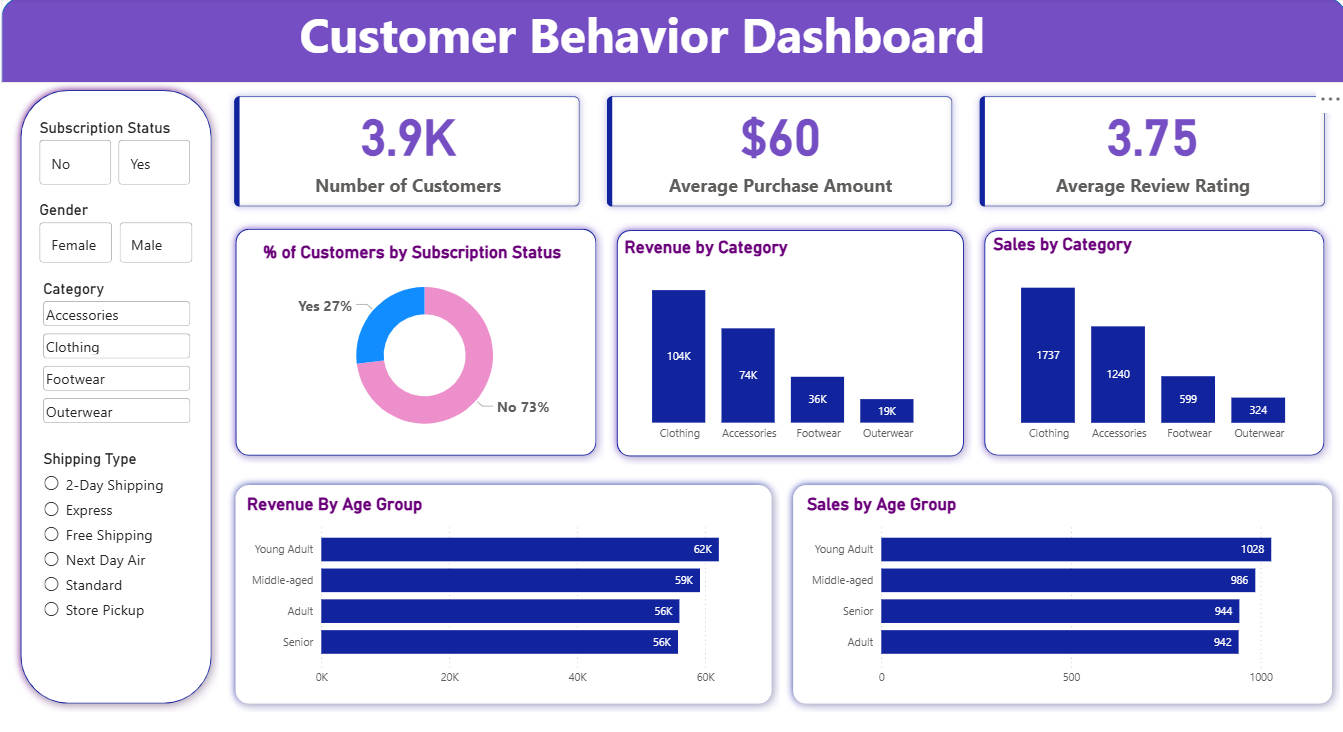

Layout of this report page (visuals, bound fields, positions):
{"tool":"powerbi","page":{"name":"Page 1","canvas":[1500,820],"ordinal":0},"visuals":[{"type":"cardVisual","fields":{"Data":["customer.Number of coustomers","customer.Average Purchase Amount","customer.Average Review Rating"]},"box":[244.6,95.4,1247.7,155.4],"z":0},{"type":"shape","box":[1.4,0,1498.6,95.7],"z":1000},{"type":"textbox","box":[328.6,0,875.7,82.9],"z":2000},{"type":"shape","box":[253.8,249.2,420,270.8],"z":3000},{"type":"donutChart","title":"% of Customers by Subscription Status","fields":{"Category":["customer.subscription_status"],"Y":["CountNonNull(customer.customer_id)"]},"box":[287.6,273.2,370,231.3],"z":4000},{"type":"shape","box":[677.9,250,404.7,270.3],"z":5000},{"type":"shape","box":[1087.7,250.8,396.9,269.2],"z":6000},{"type":"clusteredColumnChart","title":"Revenue by Category","fields":{"Category":["customer.category"],"Y":["Sum(customer.purchase_amount)"]},"box":[690.9,267.4,365.7,237],"z":7000},{"type":"clusteredColumnChart","title":"Sales by Category","fields":{"Category":["customer.category"],"Y":["customer.Number of coustomers"]},"box":[1101.5,264.6,369.2,240],"z":8000},{"type":"shape","box":[13.8,95.4,230.8,701.5],"z":9000},{"type":"advancedSlicerVisual","fields":{"Values":["customer.subscription_status"]},"box":[39,134.4,179.2,79.5],"z":10000},{"type":"advancedSlicerVisual","fields":{"Values":["customer.gender"]},"box":[39,226.9,180.7,75.2],"z":11000},{"type":"advancedSlicerVisual","fields":{"Values":["customer.category"]},"box":[43.4,315.1,174.9,205.2],"z":12000},{"type":"listSlicer","fields":{"Values":["customer.shipping_type"]},"box":[43.4,504.4,167.7,258.7],"z":13000},{"type":"shape","box":[253.8,535.4,615.4,261.5],"z":14000},{"type":"clusteredBarChart","title":"Revenue By Age Group","fields":{"Category":["customer.age_group"],"Y":["Sum(customer.purchase_amount)"]},"box":[270.8,553.8,575.4,221.5],"z":15000},{"type":"shape","box":[874.4,534.8,618.6,261.6],"z":16000},{"type":"clusteredBarChart","title":"Sales by Age Group","fields":{"Y":["customer.Number of coustomers"],"Category":["customer.age_group"]},"box":[893.8,553.8,576.9,221.5],"z":17000}]}

Visuals, with their boxes in screenshot pixels (x1, y1, x2, y2), scaled from the page's 1500x820 canvas onto the 1343x732 screenshot:
cardVisual - customer.Number of coustomers x customer.Average Purchase Amount: pyautogui.locateOnScreen(219, 85, 1336, 224)
shape: pyautogui.locateOnScreen(1, 0, 1342, 85)
textbox: pyautogui.locateOnScreen(294, 0, 1078, 74)
shape: pyautogui.locateOnScreen(227, 222, 603, 464)
"% of Customers by Subscription Status" donutChart: pyautogui.locateOnScreen(257, 244, 589, 450)
shape: pyautogui.locateOnScreen(607, 223, 969, 464)
shape: pyautogui.locateOnScreen(974, 224, 1329, 464)
"Revenue by Category" clusteredColumnChart: pyautogui.locateOnScreen(619, 239, 946, 450)
"Sales by Category" clusteredColumnChart: pyautogui.locateOnScreen(986, 236, 1317, 450)
shape: pyautogui.locateOnScreen(12, 85, 219, 711)
advancedSlicerVisual - customer.subscription_status: pyautogui.locateOnScreen(35, 120, 195, 191)
advancedSlicerVisual - customer.gender: pyautogui.locateOnScreen(35, 203, 197, 270)
advancedSlicerVisual - customer.category: pyautogui.locateOnScreen(39, 281, 195, 464)
listSlicer - customer.shipping_type: pyautogui.locateOnScreen(39, 450, 189, 681)
shape: pyautogui.locateOnScreen(227, 478, 778, 711)
"Revenue By Age Group" clusteredBarChart: pyautogui.locateOnScreen(242, 494, 758, 692)
shape: pyautogui.locateOnScreen(783, 477, 1337, 711)
"Sales by Age Group" clusteredBarChart: pyautogui.locateOnScreen(800, 494, 1317, 692)
